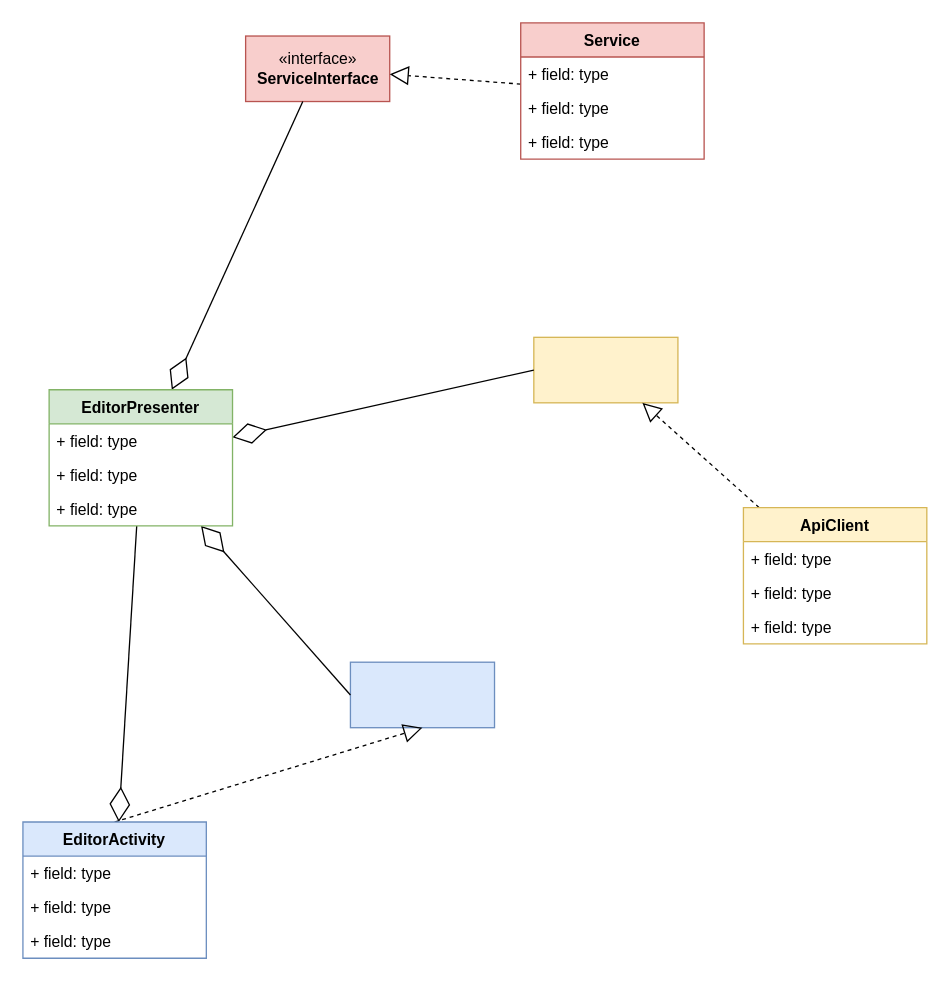
Image size: 950x985. Some labels were removed from this diagram. The centre of each missing label's shape, as x and y in pixels:
"«interface» ApiInterface" belongs at point (605, 369).
"«interface» EditorView" belongs at point (422, 694).
